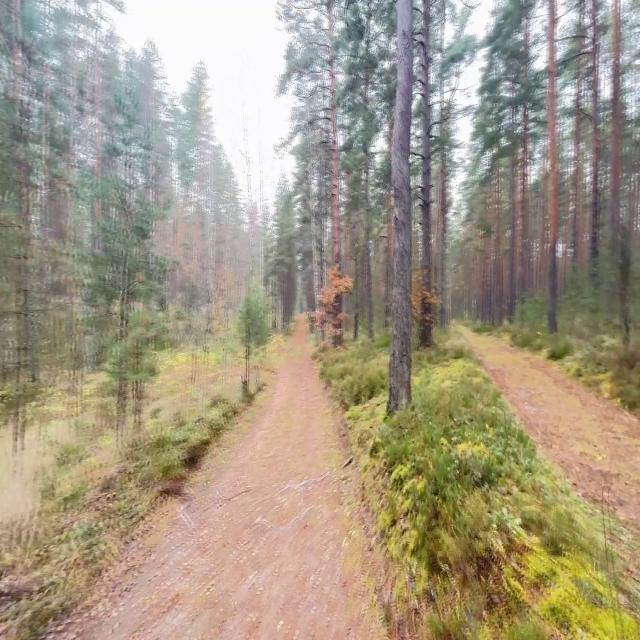bush: (239, 286, 269, 373)
trees: (87, 55, 165, 436), (387, 0, 413, 415), (10, 0, 31, 454), (484, 72, 506, 323), (420, 0, 432, 347), (547, 0, 558, 333), (327, 0, 340, 274), (572, 0, 584, 272), (362, 62, 373, 340), (609, 0, 621, 254), (590, 0, 599, 287), (439, 0, 446, 325), (521, 98, 530, 295), (508, 144, 516, 321)
